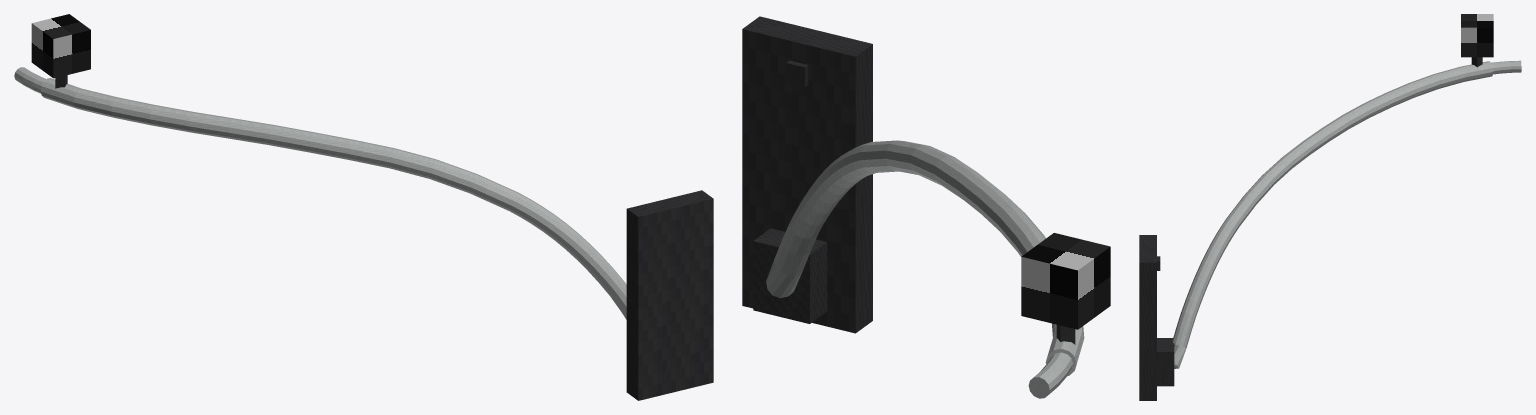
The model's file is arm_3_left.obj.
The picture shows the model from 3 angles, left to right: view 1: azimuth 30°, elevation 25°; view 2: azimuth 150°, elevation 25°; view 3: azimuth 270°, elevation 25°; orthographic projection. The views are drawn at different scales.
Visible parts, largest first — view 1: pole_light_mount_3_left; view 2: pole_light_mount_3_left; view 3: pole_light_mount_3_left.
Boxes of the visible parts, x1,y1,x2,y2 form: pole_light_mount_3_left: (14, 14, 713, 400); pole_light_mount_3_left: (742, 16, 1110, 398); pole_light_mount_3_left: (1139, 14, 1521, 400).
Bounding box in the file's own units: 2.22 × 1.41 × 2.19.
